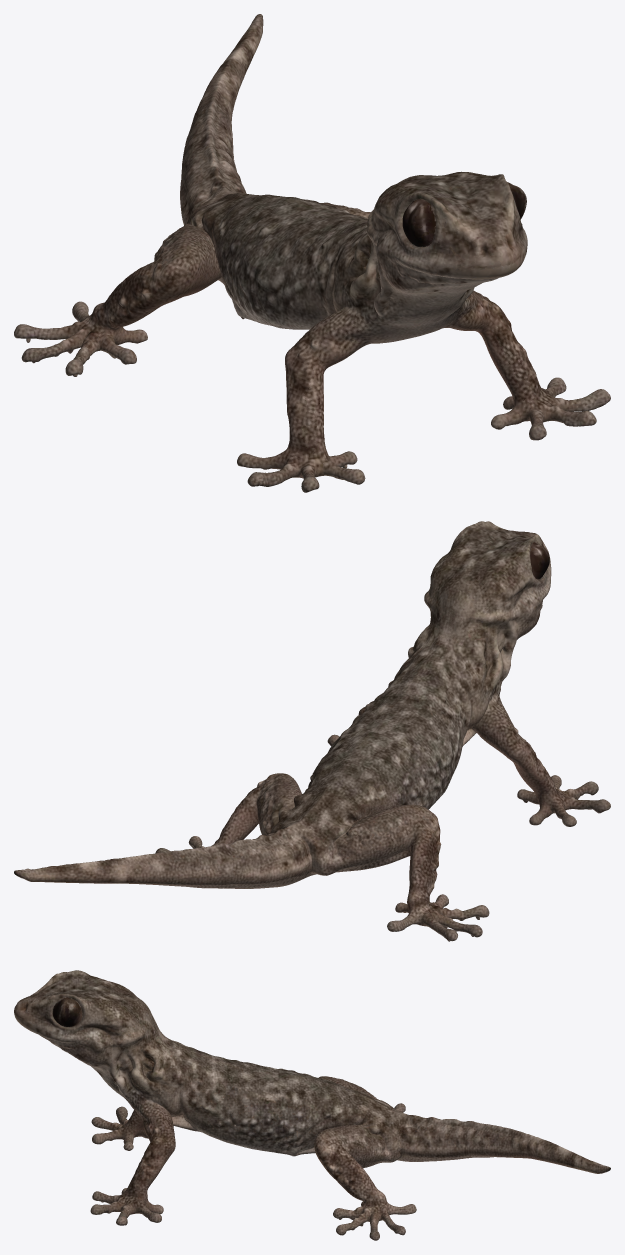
The model's file is gecko_mesh.glb.
3 views of the same model, one above another, from view 1: azimuth 30°, elevation 25°; view 2: azimuth 150°, elevation 25°; view 3: azimuth 270°, elevation 25° (orthographic). The views are drawn at different scales.
Visible parts, largest first — view 1: world; view 2: world; view 3: world.
Part boxes in pixels (x1=…): world: x1=14, y1=14, x2=610, y2=492; world: x1=14, y1=521, x2=610, y2=941; world: x1=14, y1=970, x2=610, y2=1240.
Size of the model in its own units: 0.5278 by 0.3605 by 1.
Materials: 1 (1 with a texture image).
